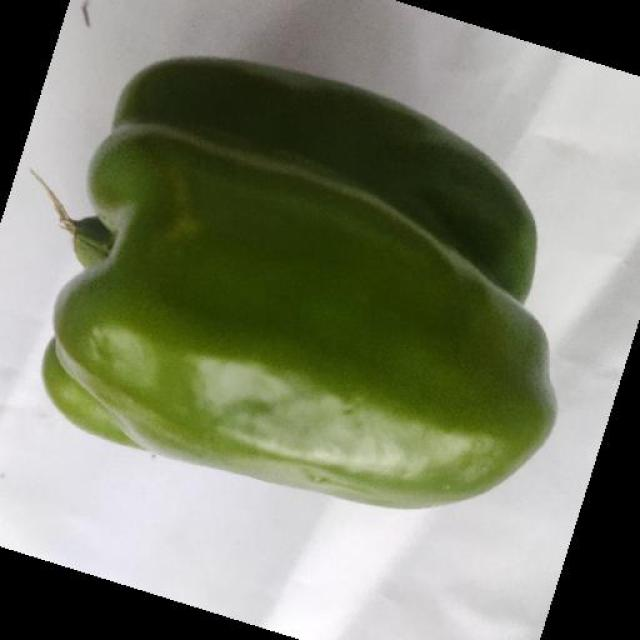Fresh_Capsicum: (44, 54, 580, 540)
Stale_Capsicum: (64, 66, 564, 490)
